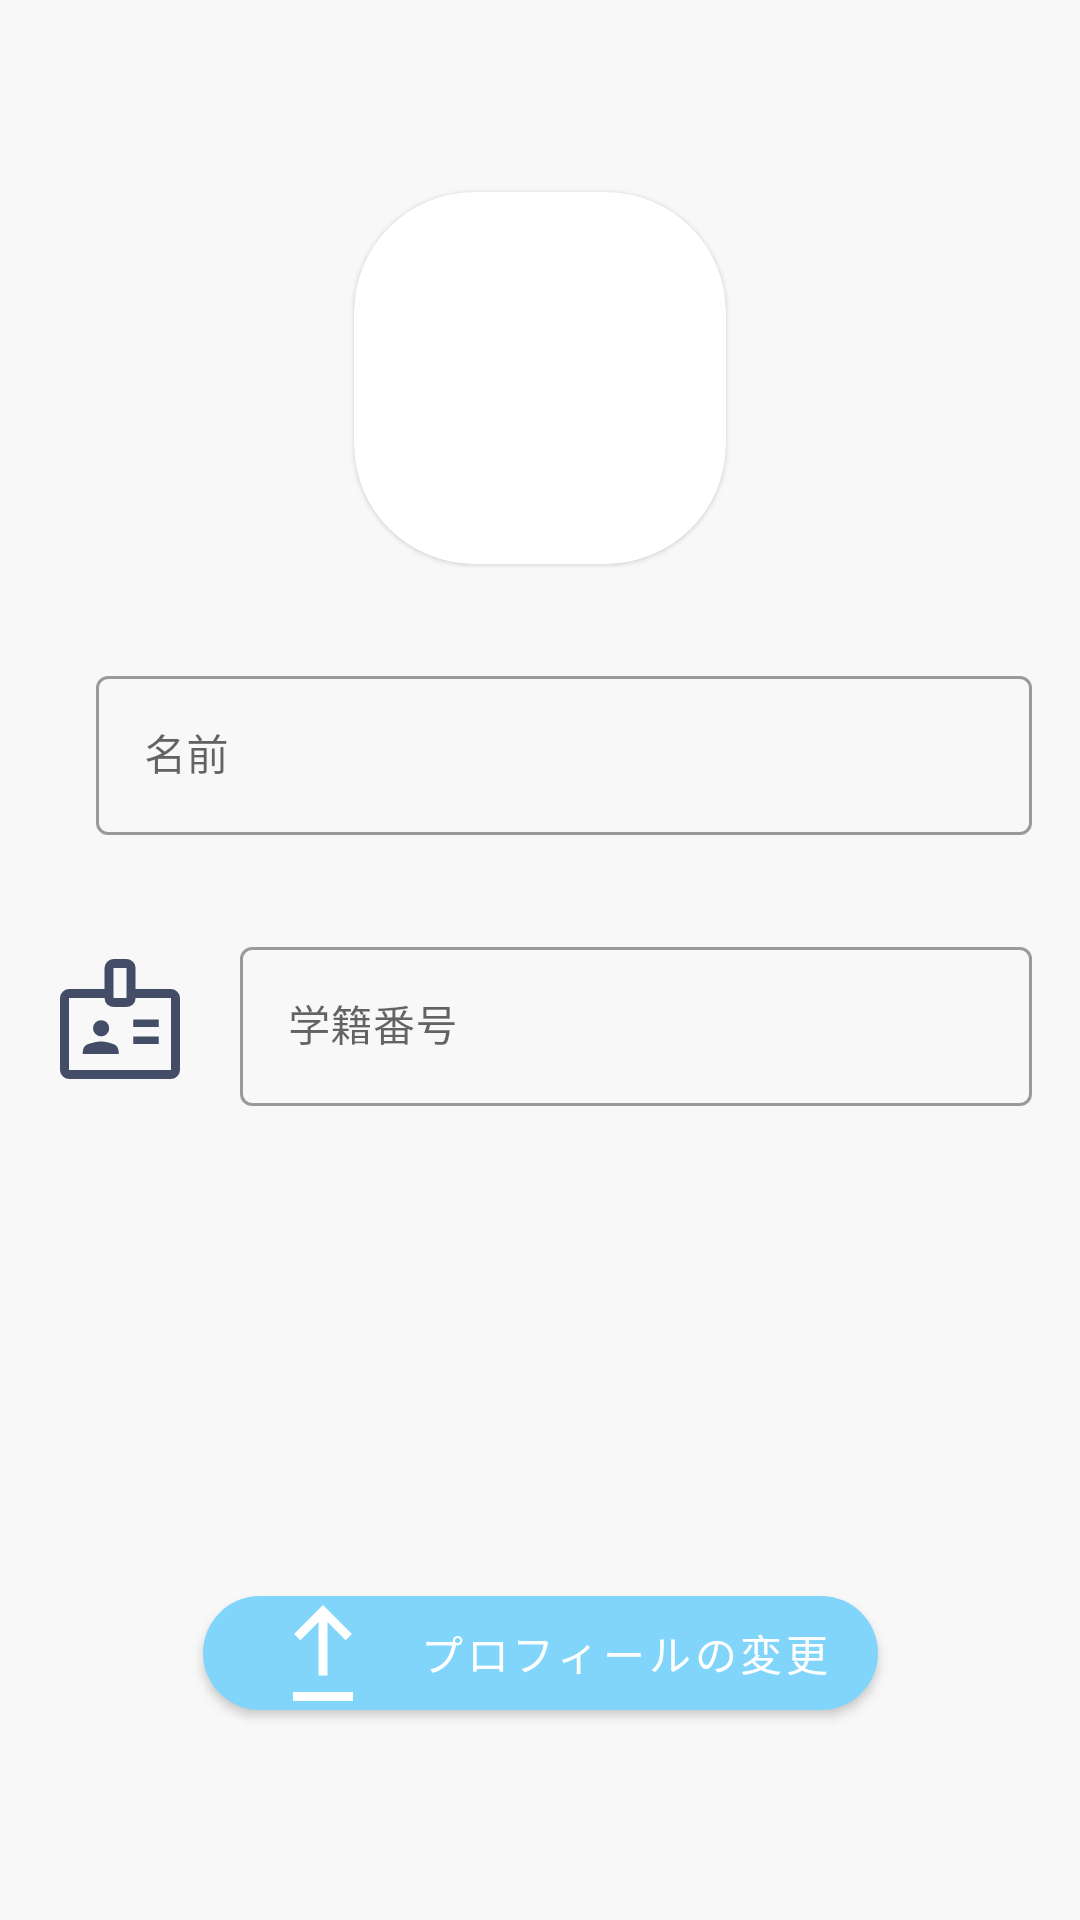

Where to tap for icons on this 1080px x 1920px app screen, as [x,y]:
badge: [120,1019]
